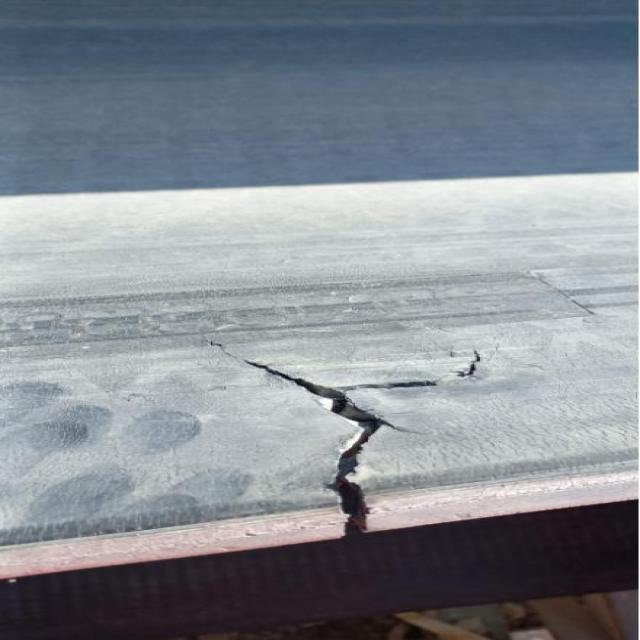Tear: (200, 335, 442, 541), (448, 340, 491, 383)
